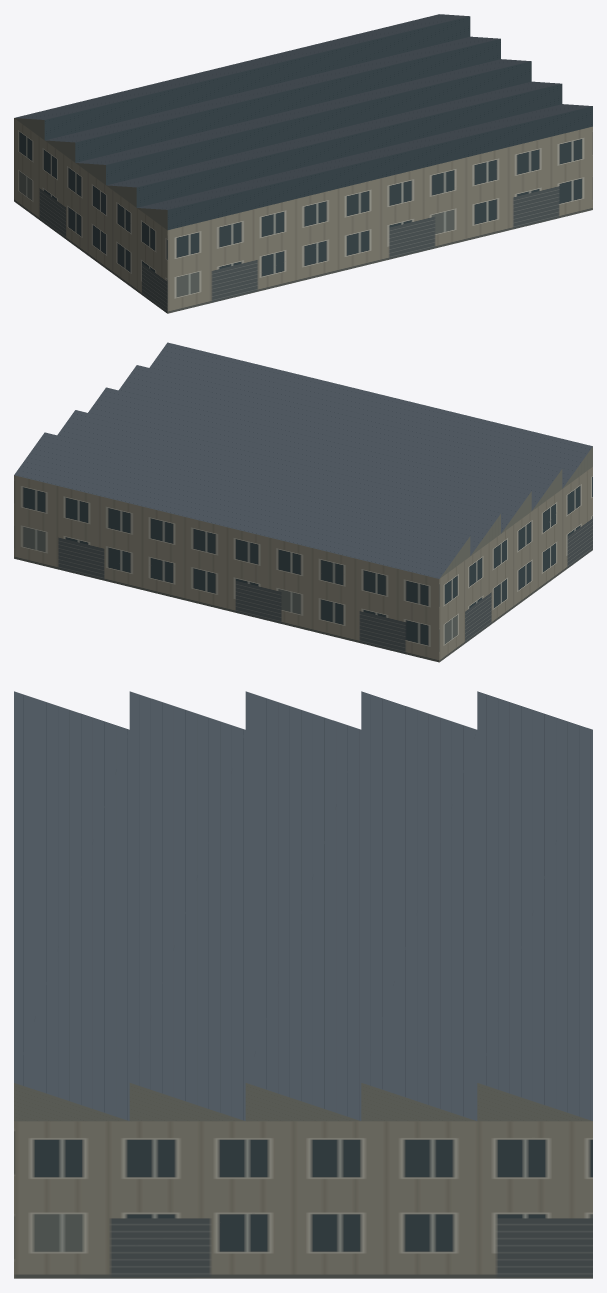
The model's file is kyiv_factory_01.obj.
The picture shows the model from 3 angles, top to bottom: view 1: azimuth 30°, elevation 25°; view 2: azimuth 150°, elevation 25°; view 3: azimuth 270°, elevation 25°; orthographic projection. The views are drawn at different scales.
Visible parts, largest first — view 1: kyiv_factory_01; view 2: kyiv_factory_01; view 3: kyiv_factory_01.
Part boxes in pixels (box(x1,y1,x2,y2)): kyiv_factory_01: box(14, 14, 592, 313); kyiv_factory_01: box(14, 342, 592, 662); kyiv_factory_01: box(14, 691, 592, 1278).
Size of the model in its own units: 48 by 11.2 by 30.
Materials: 1 (1 with a texture image).
